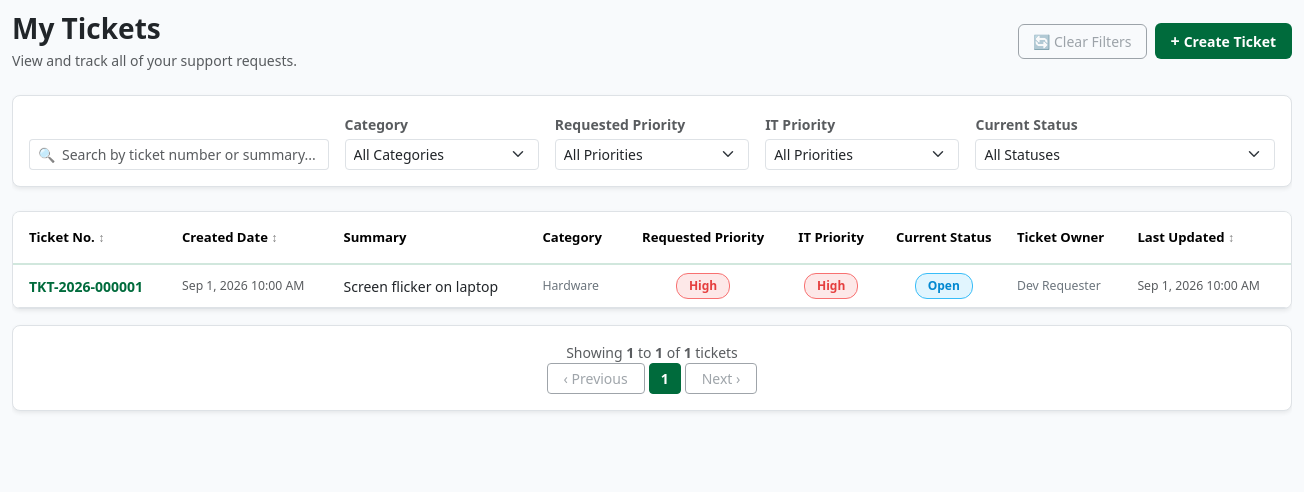
Test: MyTicketsList Component › renders no-results state when search filter returns empty list
Expected: the text "TKT-2026-000001" is shown, [13, 264, 174, 308]
Type "nonexistent" into the field with placeholder "Search by ticket number or summary...". click: [195, 154]
box: [62, 139, 328, 170]
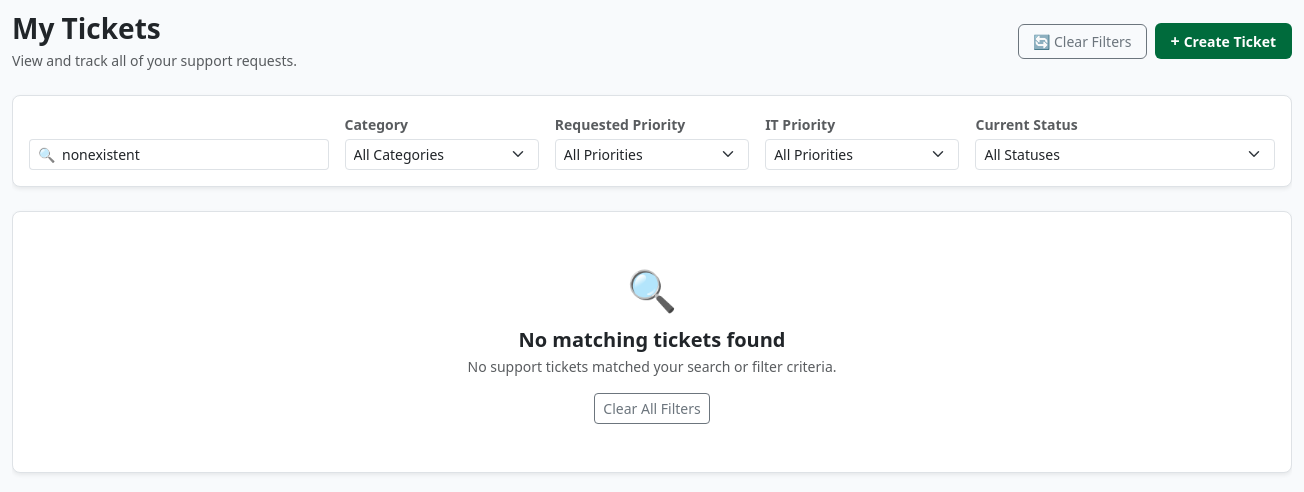
Expected: the heading "No matching tickets found" is shown, [518, 326, 785, 353]
